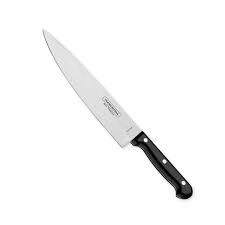knife: (29, 27, 202, 193)
